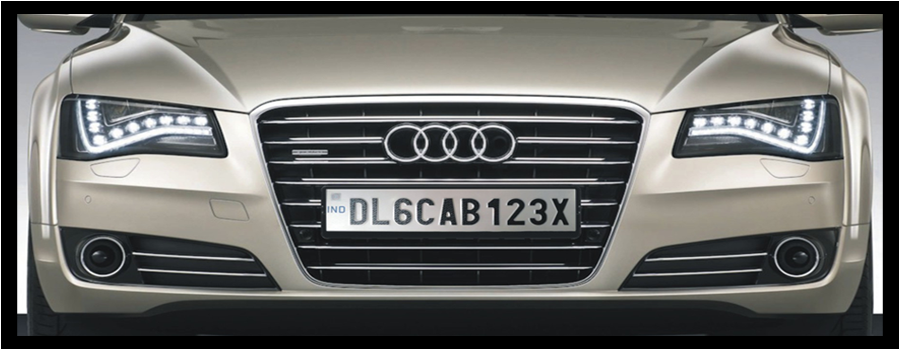number_plate: (313, 174, 591, 241)
